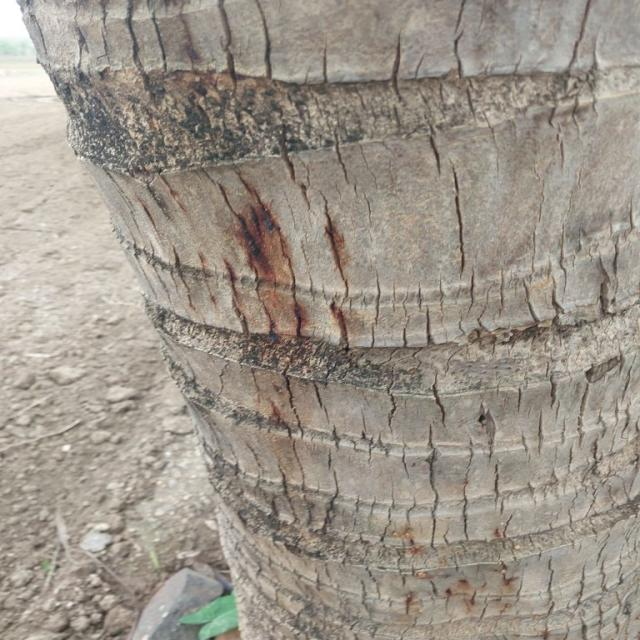stembleeding: (182, 179, 390, 538)
